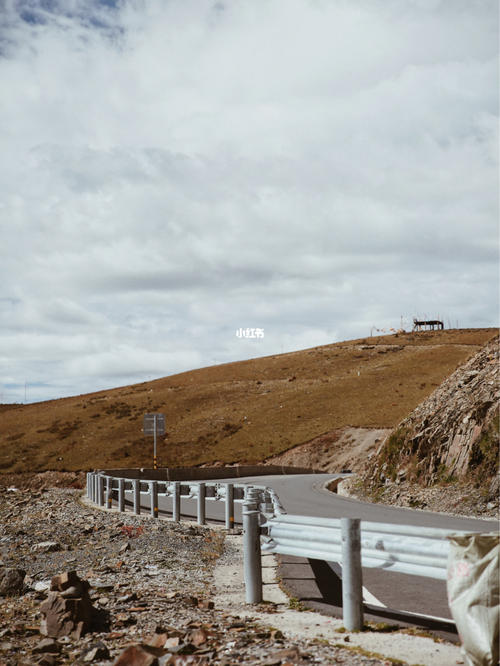sea_river: (39, 338, 464, 471)
sky_cloud: (2, 131, 478, 356)
